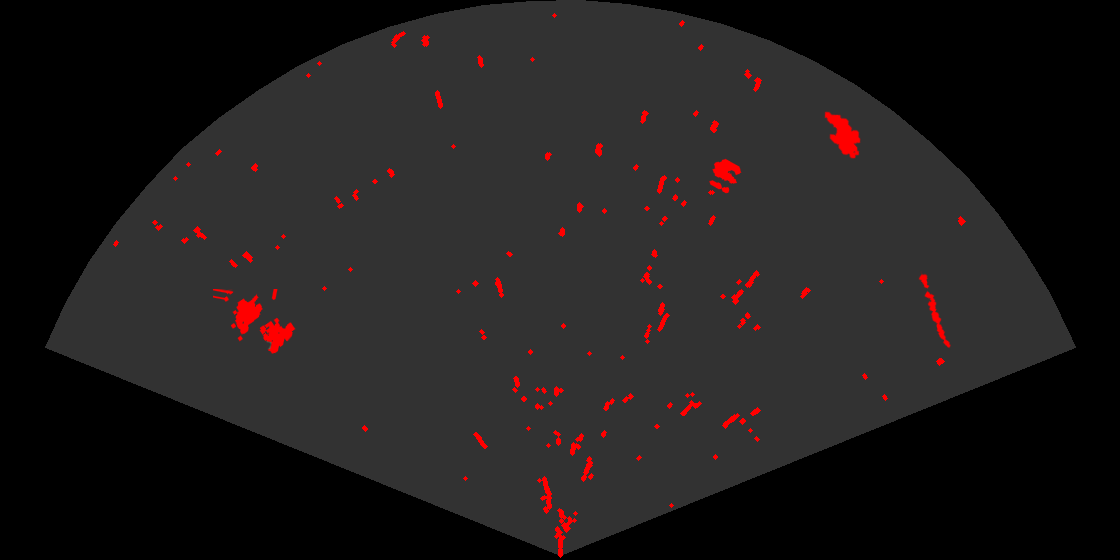AUV: (823, 110, 862, 160)
ball: (708, 157, 743, 195)
cage: (213, 289, 297, 355)
chain: (917, 271, 952, 350)
